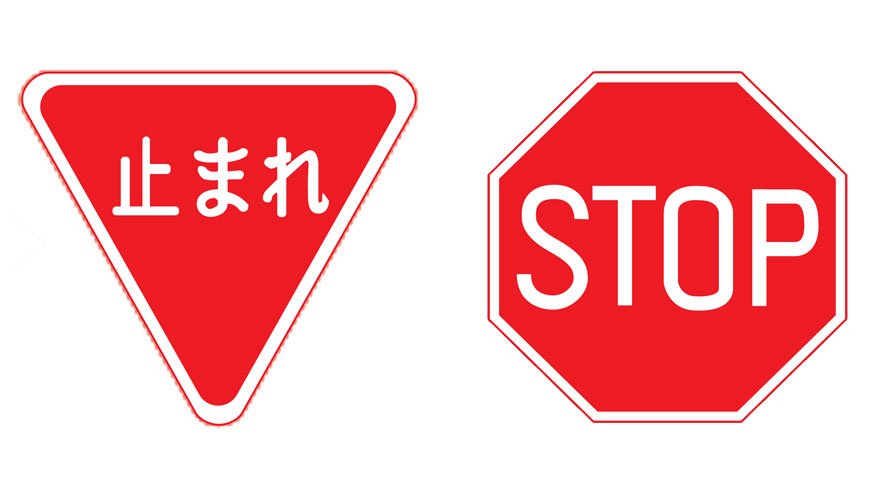Stop: (481, 68, 850, 429)
